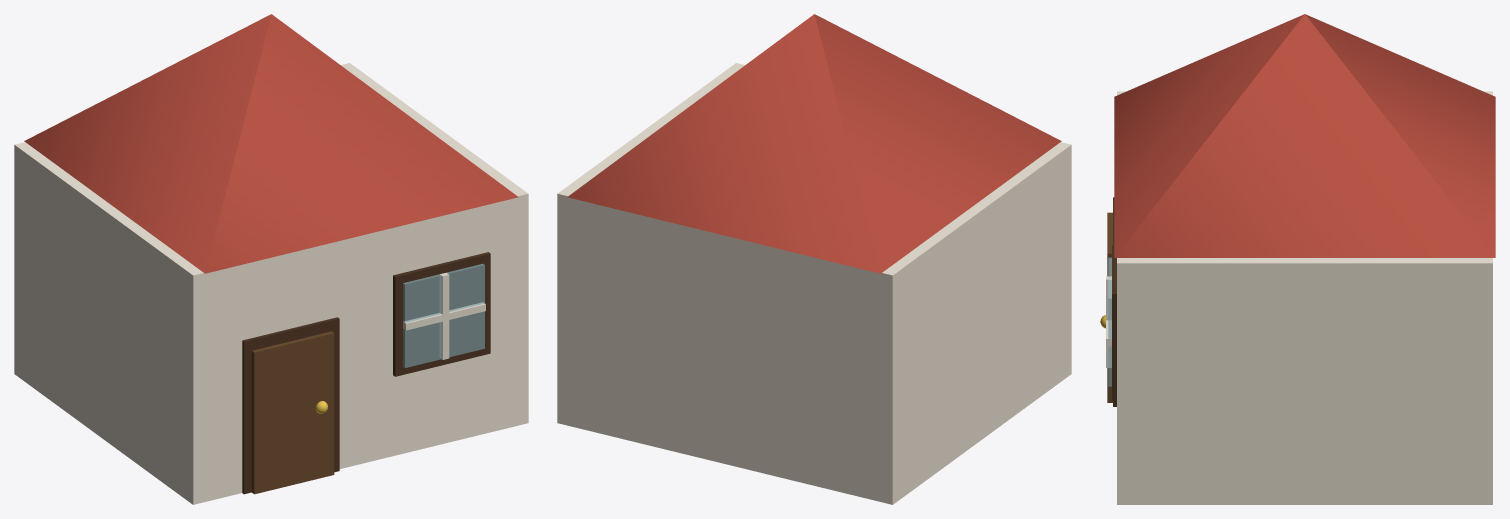
File: house.glb
The picture shows the model from 3 angles, left to right: view 1: azimuth 30°, elevation 25°; view 2: azimuth 150°, elevation 25°; view 3: azimuth 270°, elevation 25°; orthographic projection. The views are drawn at different scales.
Bounding box in the file's own units: 2.6 × 2.85 × 2.52.
